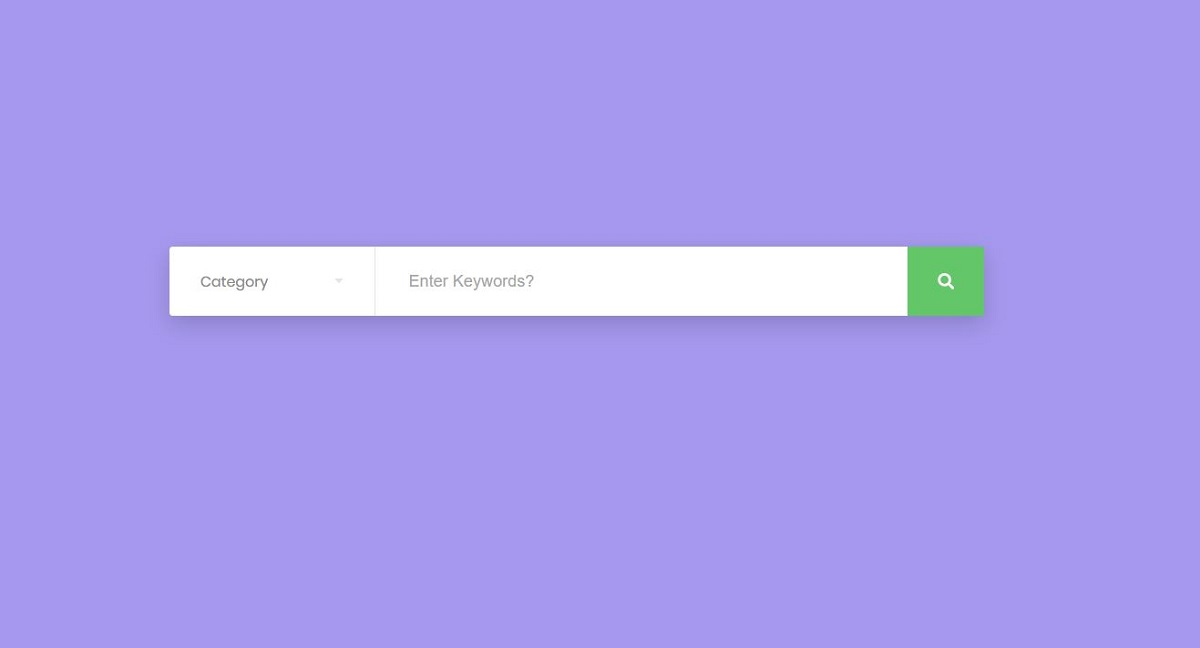search_box: (375, 245, 988, 314)
